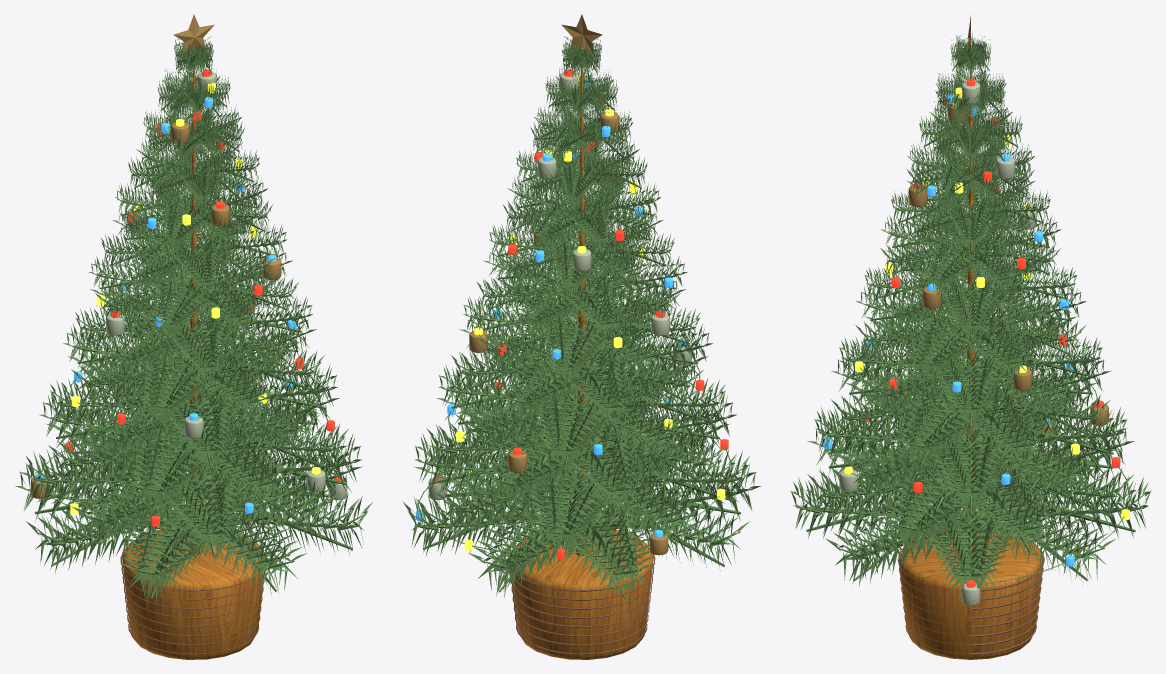
File: christmas-tree.glb
The picture shows the model from 3 angles, left to right: view 1: azimuth 30°, elevation 25°; view 2: azimuth 150°, elevation 25°; view 3: azimuth 270°, elevation 25°; orthographic projection.
Visible parts, largest first — view 1: christmas-tree, linked_bough_0_5, linked_bough_0_6, linked_bough_1_4, linked_bough_1_5, linked_bough_0_4, linked_bough_2_5, linked_bough_0_7, linked_bough_1_6, linked_bough_2_6, linked_bough_2_4, linked_bough_1_3 (+61 smaller); view 2: christmas-tree, linked_bough_0_2, linked_bough_0_3, linked_bough_1_2, linked_bough_1_1, linked_bough_1_3, linked_bough_0_1, linked_bough_0_4, linked_bough_2_3, linked_bough_2_2, linked_bough_3_1, linked_bough_3_2 (+61 smaller); view 3: christmas-tree, linked_bough_0_7, linked_bough_0_0, linked_bough_1_7, linked_bough_1_0, linked_bough_0_1, linked_bough_2_7, linked_bough_2_0, linked_bough_1_1, linked_bough_2_1, linked_bough_3_7, linked_bough_3_0 (+58 smaller).
Boxes of the visible parts, x1,y1,x2,y2 form: christmas-tree: (31, 14, 347, 659); linked_bough_0_5: (120, 502, 238, 603); linked_bough_0_6: (164, 493, 306, 597); linked_bough_1_4: (72, 458, 212, 549); linked_bough_1_5: (146, 465, 250, 562); linked_bough_0_4: (26, 482, 186, 573); linked_bough_2_5: (130, 426, 232, 516); linked_bough_0_7: (208, 478, 372, 554); linked_bough_1_6: (193, 447, 340, 533); linked_bough_2_6: (169, 418, 292, 510); linked_bough_2_4: (48, 411, 189, 490); linked_bough_1_3: (26, 443, 188, 507); christmas-tree: (416, 14, 730, 659); linked_bough_0_2: (468, 494, 610, 597); linked_bough_0_3: (537, 500, 655, 602); linked_bough_1_2: (525, 466, 630, 562); linked_bough_1_1: (434, 451, 583, 538); linked_bough_1_3: (563, 452, 703, 549); linked_bough_0_1: (403, 482, 567, 556); linked_bough_0_4: (589, 482, 749, 570); linked_bough_2_3: (542, 425, 645, 515); linked_bough_2_2: (483, 421, 606, 511); linked_bough_3_1: (455, 379, 582, 454); linked_bough_3_2: (532, 391, 623, 473); christmas-tree: (823, 15, 1130, 659); linked_bough_0_7: (825, 490, 981, 586); linked_bough_0_0: (917, 506, 1025, 605); linked_bough_1_7: (883, 459, 1002, 557); linked_bough_1_0: (936, 457, 1058, 556); linked_bough_0_1: (960, 489, 1116, 586); linked_bough_2_7: (844, 417, 980, 502); linked_bough_2_0: (922, 430, 1016, 517); linked_bough_1_1: (983, 443, 1134, 522); linked_bough_2_1: (961, 411, 1097, 498); linked_bough_3_7: (895, 386, 1000, 471); linked_bough_3_0: (941, 383, 1046, 471).
Size of the model in its own units: 1 by 1.9 by 1.
Materials: 8 (1 with a texture image).
